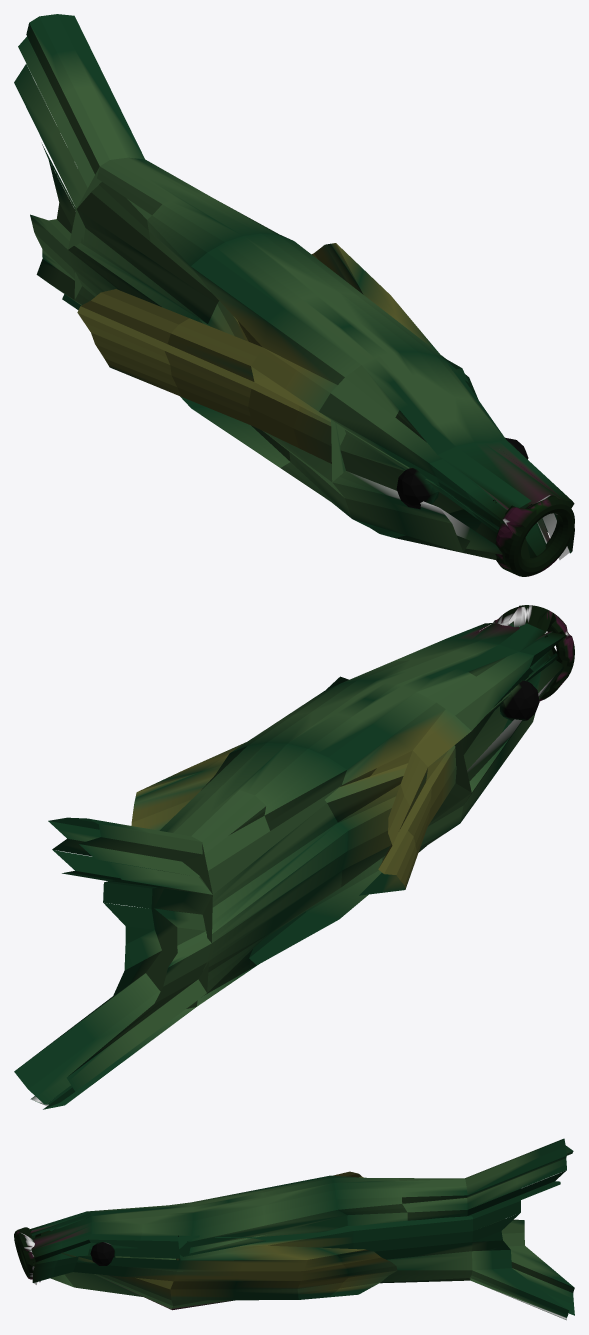
Rendered from fish.fbx.
3 renders of one model, top to bottom at view 1: azimuth 30°, elevation 25°; view 2: azimuth 150°, elevation 25°; view 3: azimuth 270°, elevation 25°, orthographic. The views are drawn at different scales.
Parts seen in each view (by area): view 1: Icosphere.001; view 2: Icosphere.001; view 3: Icosphere.001.
Boxes of the visible parts, box(x1,y1,x2,y2) form: Icosphere.001: box(14, 14, 574, 576); Icosphere.001: box(14, 605, 574, 1109); Icosphere.001: box(14, 1138, 574, 1320).
Size of the model in its own units: 11.61 by 12.74 by 38.41.
